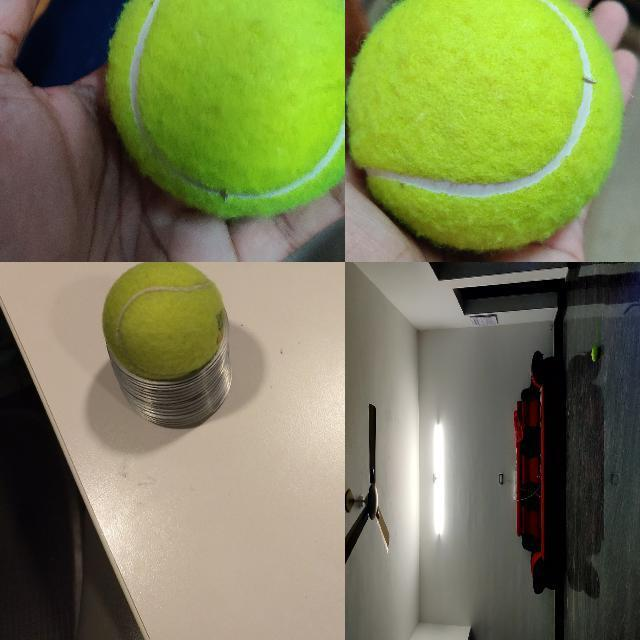tennis-ball: (346, 0, 622, 249), (107, 0, 344, 218), (101, 262, 226, 381), (591, 346, 599, 362)
